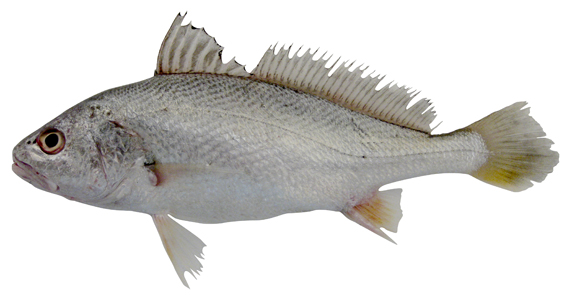fish: (11, 9, 560, 288)
